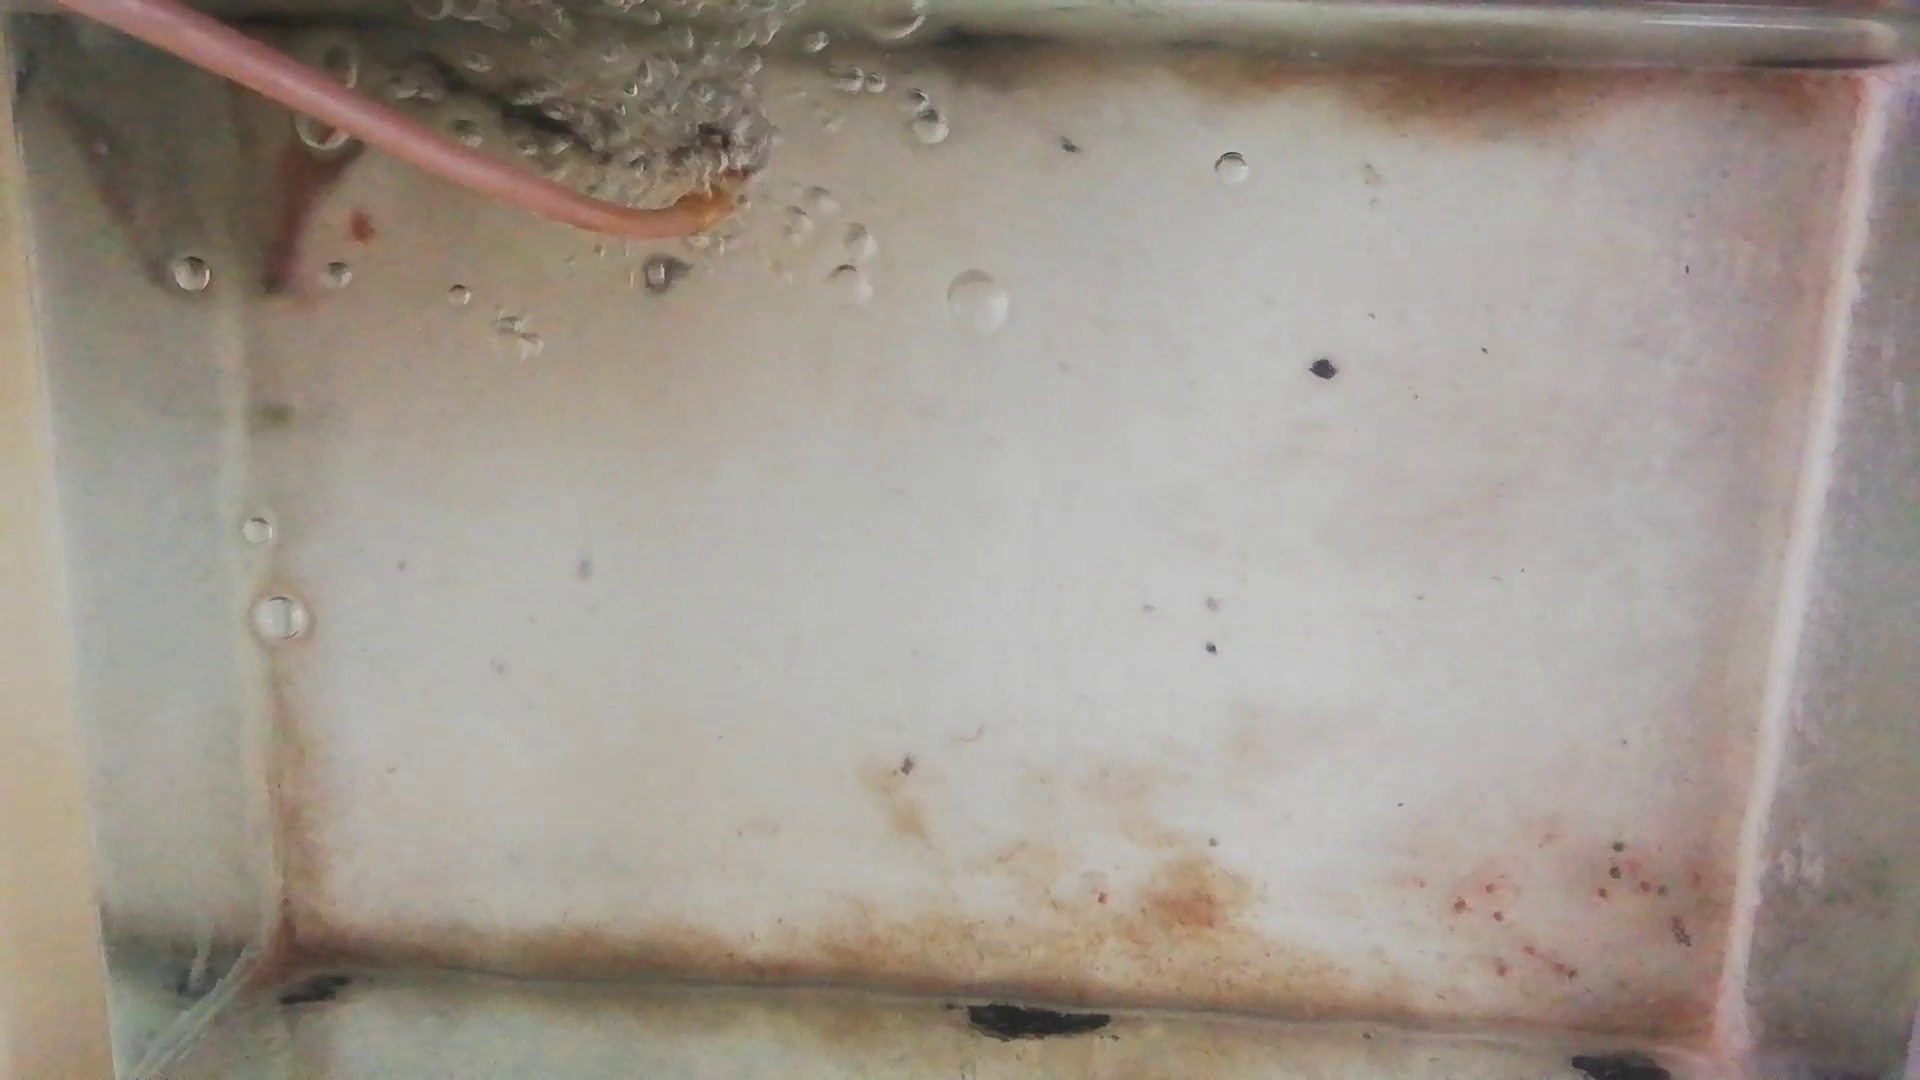fish: (411, 51, 616, 165), (258, 109, 364, 298)
